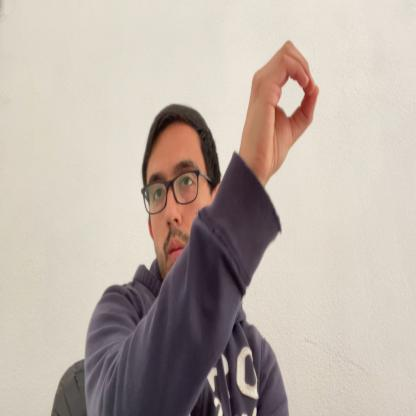O: (240, 38, 321, 189)
